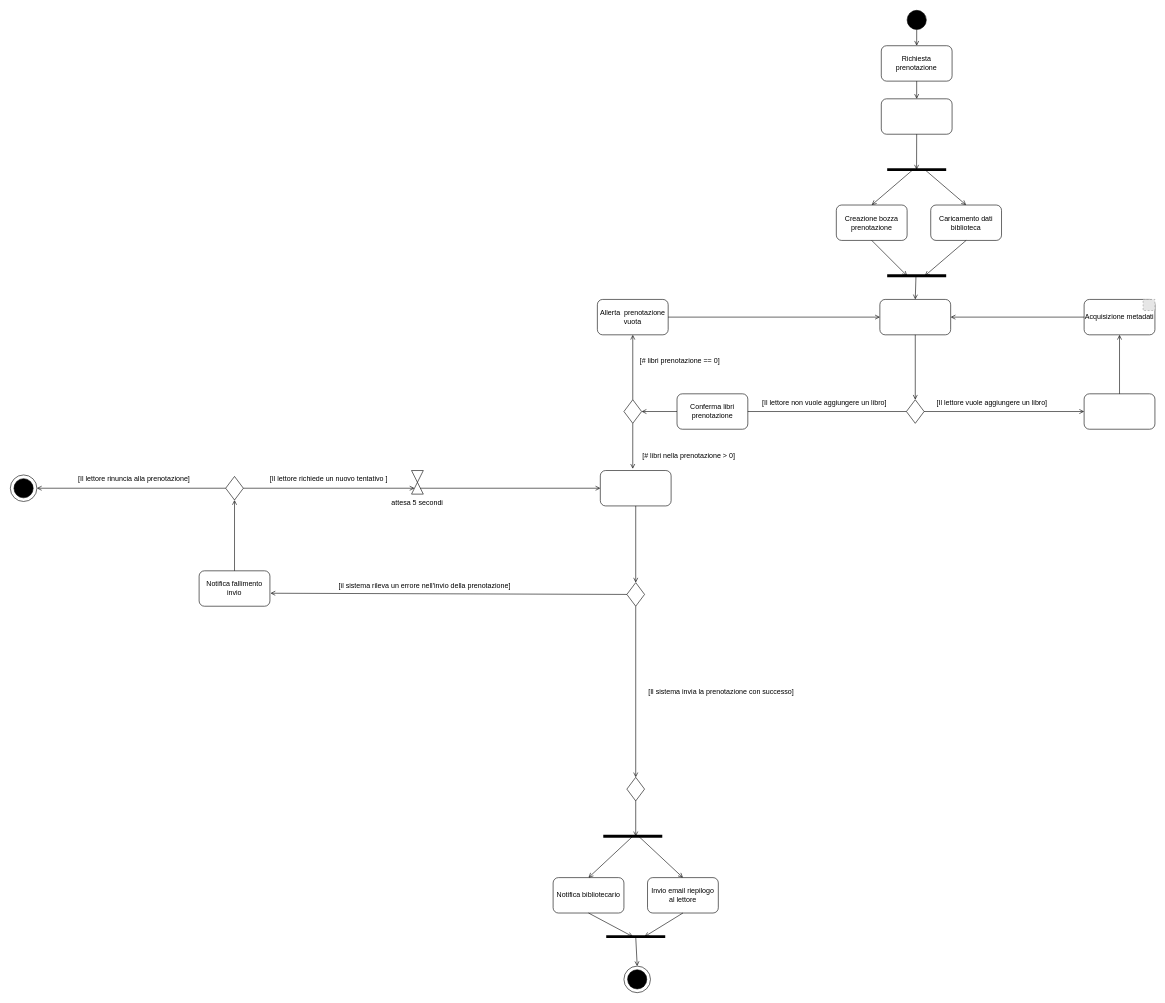
Image size: 1165x1003. Some labels were removed from this diagram. Grey dashed boxes stand in for pictures. The centre of each missing label's shape, as x and y in pixels:
"Invio prenotazione" belongs at (635,488).
"Mostra prenotazione aggiornata" belongs at (915,317).
"Richiesta aggiunta libro" belongs at (1119,411).
"Selezione biblioteca" belongs at (916,116).
